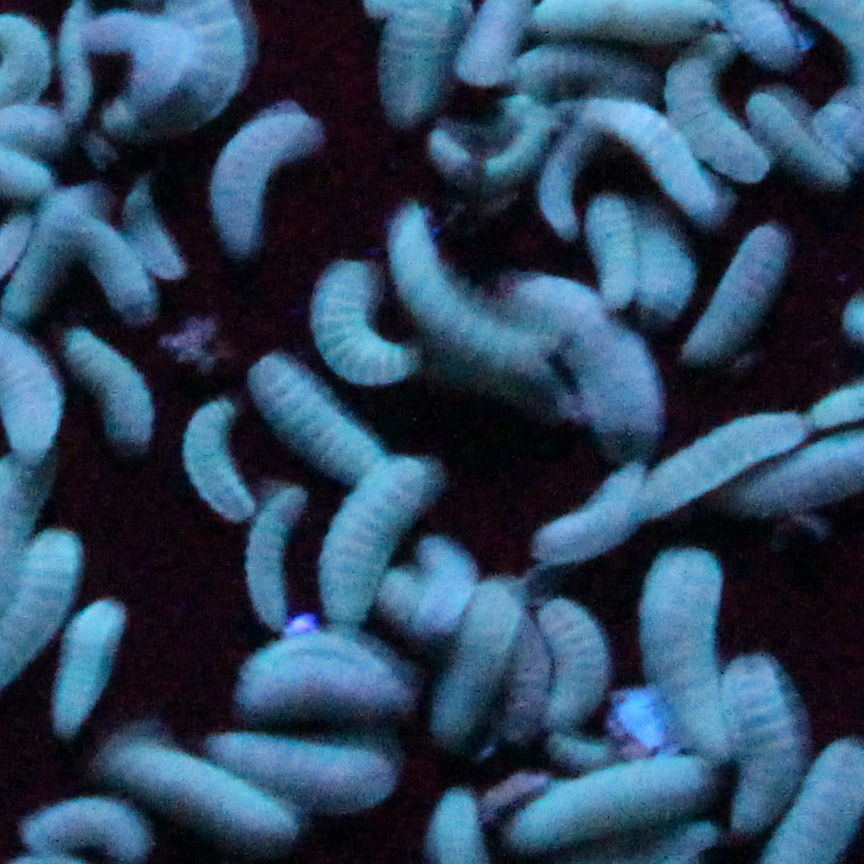larve: (392, 204, 572, 396), (514, 262, 667, 455), (88, 735, 302, 847), (316, 454, 436, 631), (632, 402, 809, 515), (642, 550, 737, 757), (514, 756, 716, 852), (210, 91, 323, 261), (582, 100, 727, 230), (200, 731, 405, 821), (254, 358, 397, 483), (237, 634, 416, 728), (432, 574, 530, 742), (63, 4, 192, 123), (309, 256, 424, 387), (657, 47, 762, 180), (2, 184, 102, 322), (724, 660, 804, 832), (537, 460, 652, 567), (692, 227, 789, 350), (62, 325, 155, 452), (744, 90, 852, 195), (53, 598, 129, 738), (536, 590, 608, 722), (184, 396, 258, 521), (245, 483, 305, 635), (72, 217, 158, 323), (380, 528, 480, 618), (579, 170, 642, 307), (497, 80, 569, 177), (512, 606, 558, 748), (128, 181, 187, 283), (647, 230, 684, 307), (429, 125, 477, 177)
